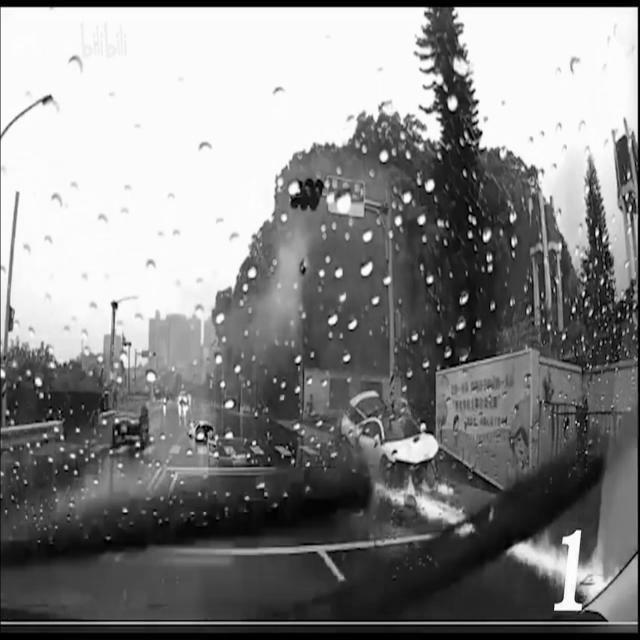accident: (328, 384, 448, 497)
vehicle: (109, 397, 151, 453)
